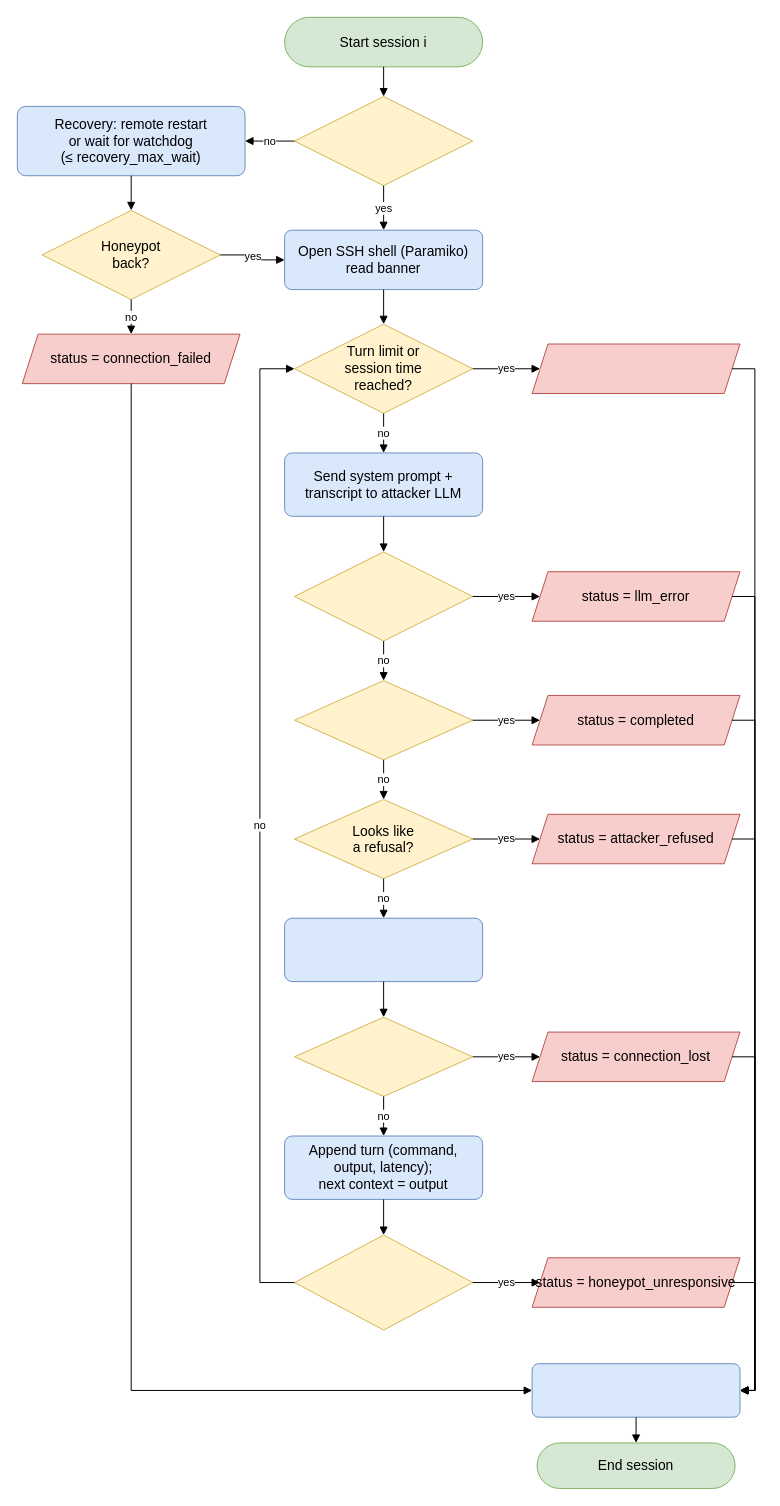
This 780x1506 diagram has some shape labels left out. The shapes that lost their labels are listed below. From the top down, each one's centre as x and y in pixels, then its label:
the point at 383,141: SSH banner answers?
the point at 635,368: status = max_turns_reached or timed_out
the point at 383,596: LLM call failed 3 times?
the point at 383,720: Reply is DONE?
the point at 383,949: Type command into honeypot, read until 1.5 s of silence
the point at 383,1056: Socket died?
the point at 383,1282: 2 empty replies at the time ceiling in a row?
the point at 635,1390: Save session JSON (+ infra_events.log)
